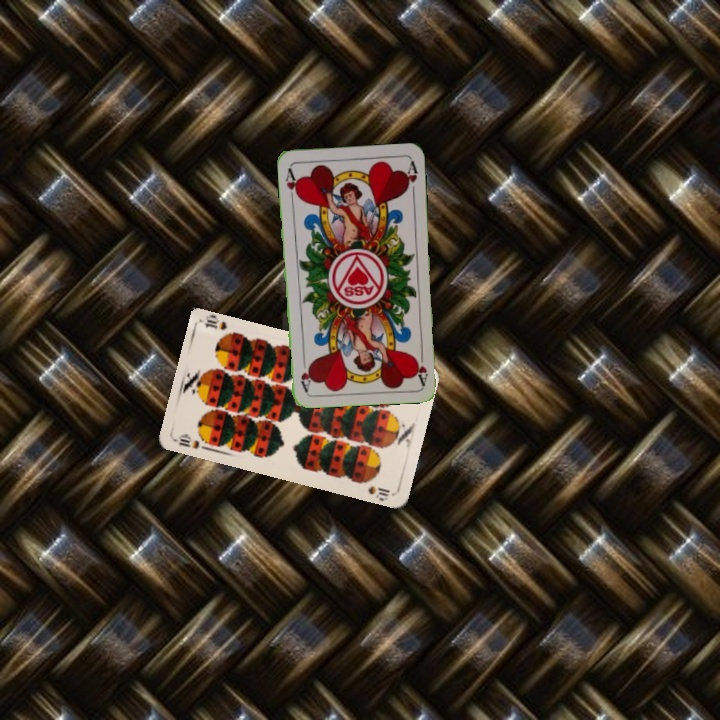HA: (281, 164, 301, 204), (411, 346, 431, 386)
S10: (171, 430, 202, 452)
